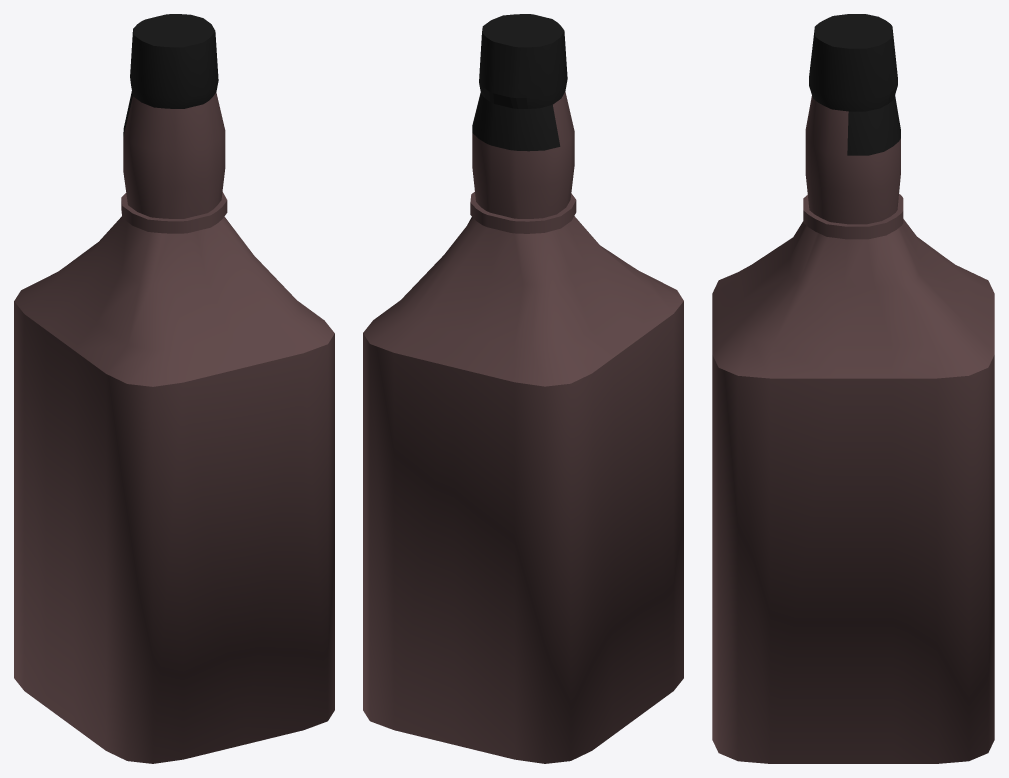
Rendered from whisky_01.FBX.
3 views of the same model, side by side, from view 1: azimuth 30°, elevation 25°; view 2: azimuth 150°, elevation 25°; view 3: azimuth 270°, elevation 25° (orthographic). The views are drawn at different scales.
Visible parts, largest first — view 1: Box059; view 2: Box059; view 3: Box059.
Boxes of the visible parts, <box> form: Box059: <box>14,14,334,763</box>; Box059: <box>363,14,683,763</box>; Box059: <box>712,14,994,763</box>.
Size of the model in its own units: 18.4 by 53.36 by 20.15.
